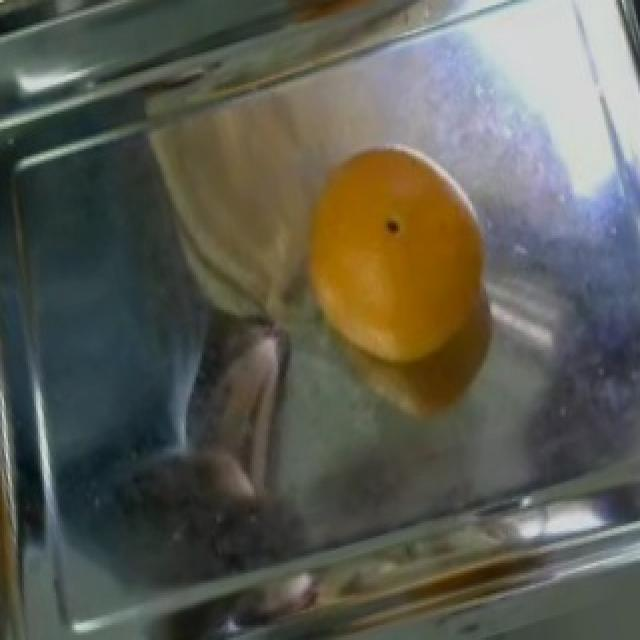Fruit: (280, 121, 508, 452)
